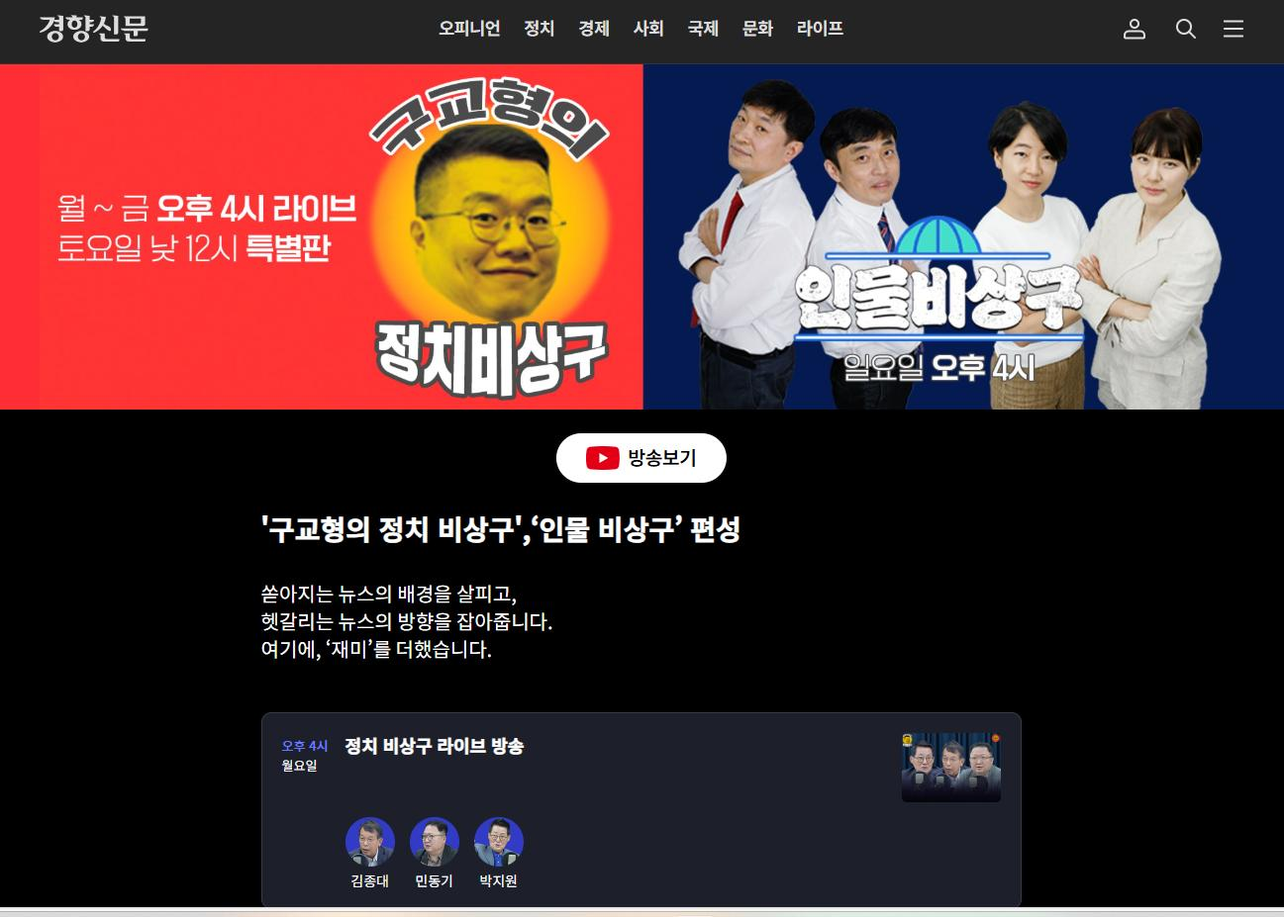button: (548, 429, 747, 484), (428, 14, 506, 48), (794, 15, 859, 49), (736, 12, 783, 51), (517, 12, 563, 50), (574, 12, 620, 49), (682, 12, 725, 51), (631, 9, 671, 49), (1216, 9, 1255, 49), (1115, 14, 1157, 51), (1168, 11, 1202, 52)
